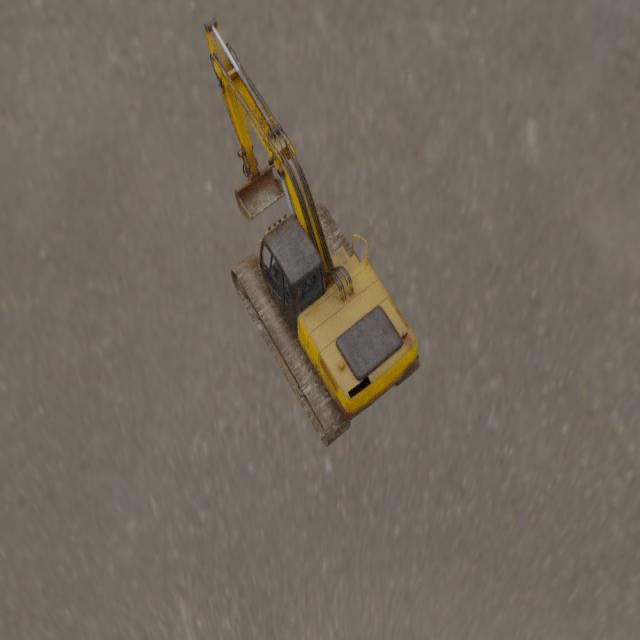excavator: (203, 16, 420, 447)
